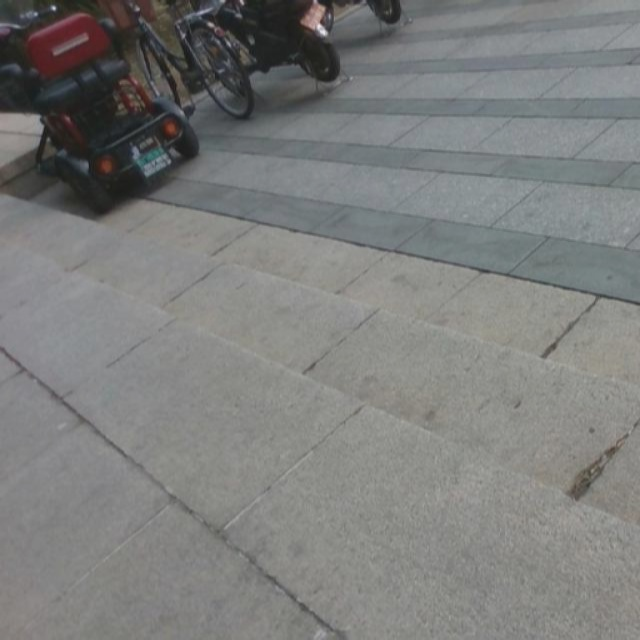stair: (1, 224, 640, 512)
